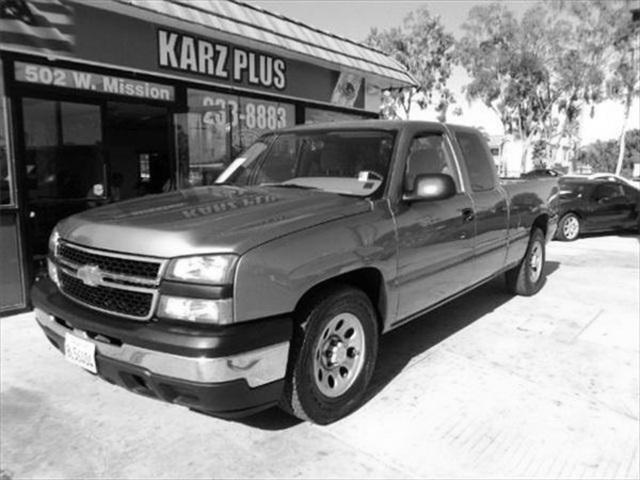car: (30, 119, 566, 429)
